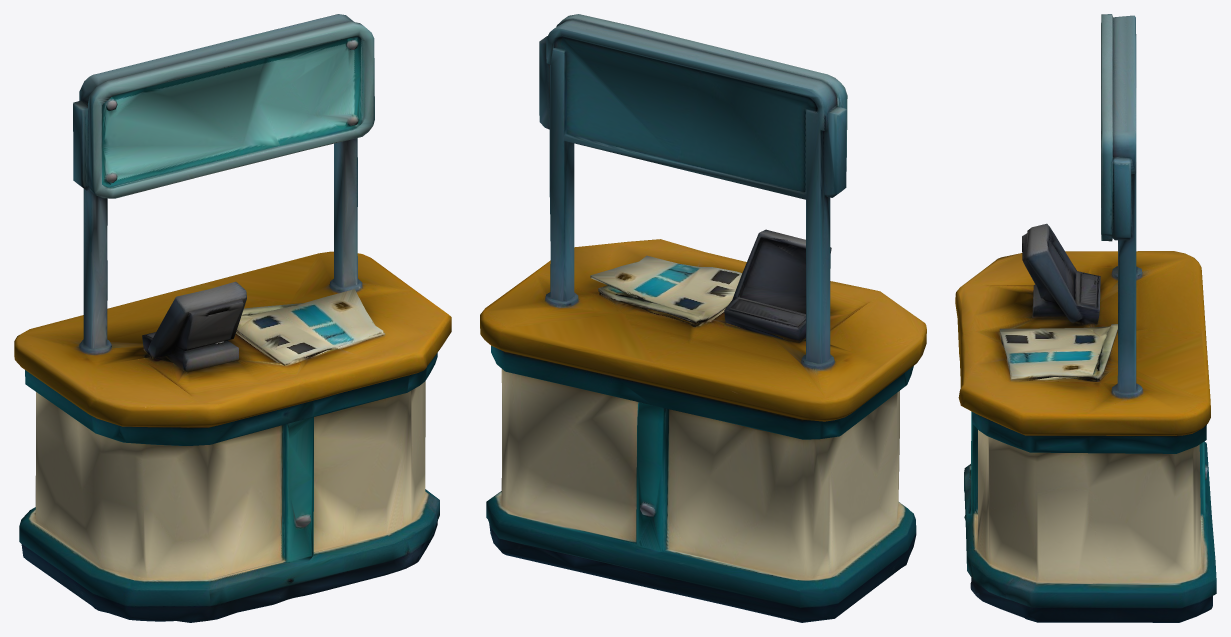
Rendered from mall_kiosk_3000.glb.
3 renders of one model, left to right at view 1: azimuth 30°, elevation 25°; view 2: azimuth 150°, elevation 25°; view 3: azimuth 270°, elevation 25°, orthographic. The views are drawn at different scales.
Visible parts, largest first — view 1: tripo_node_e941d4a9-d5f2-447c-87fa-a124f8bd60c8; view 2: tripo_node_e941d4a9-d5f2-447c-87fa-a124f8bd60c8; view 3: tripo_node_e941d4a9-d5f2-447c-87fa-a124f8bd60c8.
Part boxes in pixels (x1,y1,x2,y2): tripo_node_e941d4a9-d5f2-447c-87fa-a124f8bd60c8: (14, 14, 451, 622); tripo_node_e941d4a9-d5f2-447c-87fa-a124f8bd60c8: (480, 14, 926, 622); tripo_node_e941d4a9-d5f2-447c-87fa-a124f8bd60c8: (955, 14, 1216, 622).
Size of the model in its own units: 0.7428 by 0.9796 by 0.4886.
Materials: 1 (1 with a texture image).
